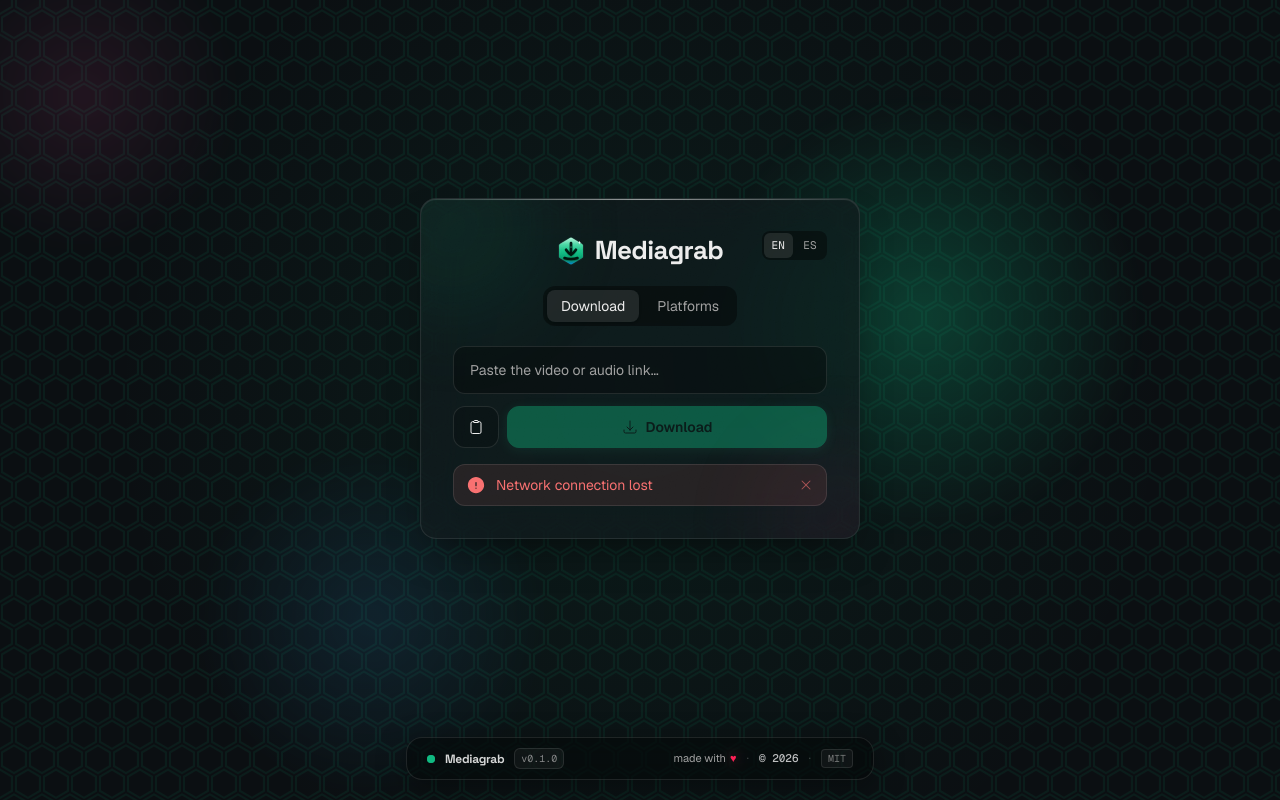
Test: App main integration › displays error banner if download encounters error and allows dismissing
Check: the text "Network connection lost" is shown, box left=496, top=476, right=653, bottom=494
Click the button named "Close": coordinates (806, 485) left=798, top=477, right=814, bottom=493
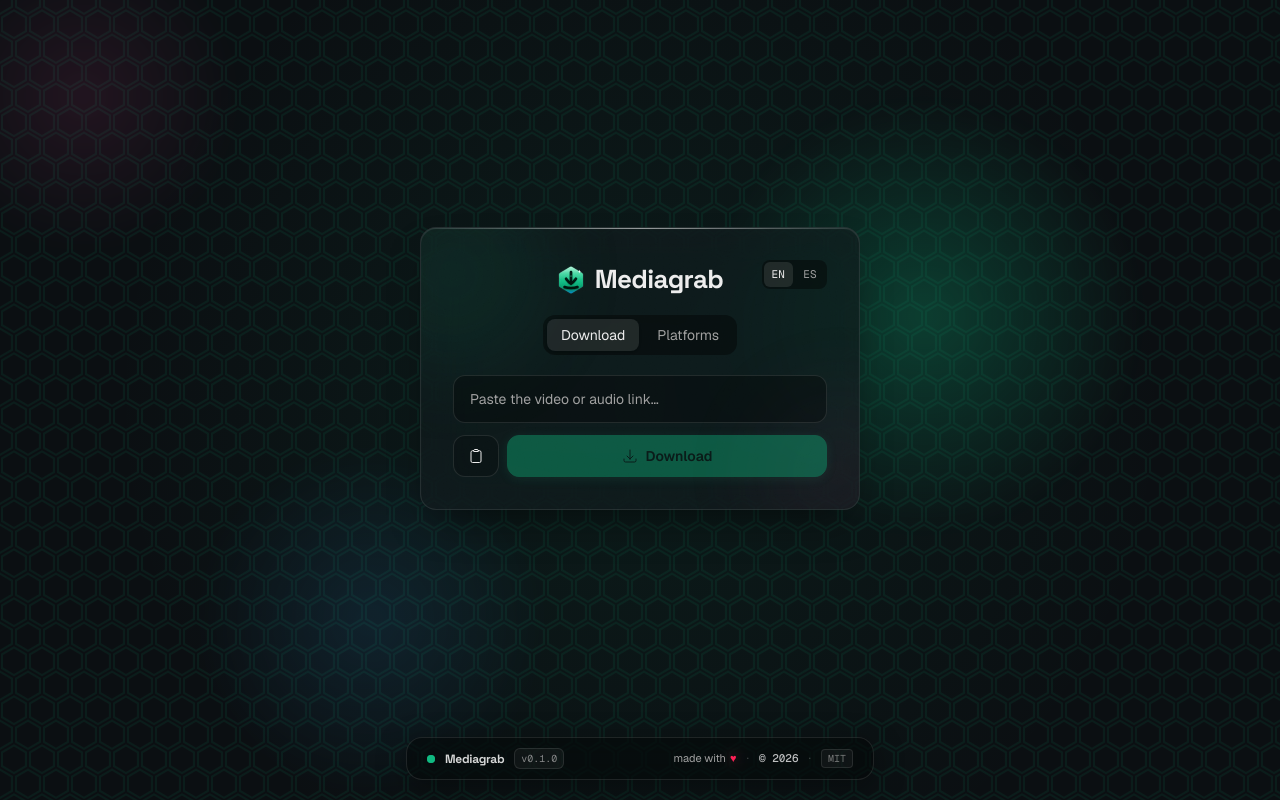
Check: the text "Network connection lost" is gone
